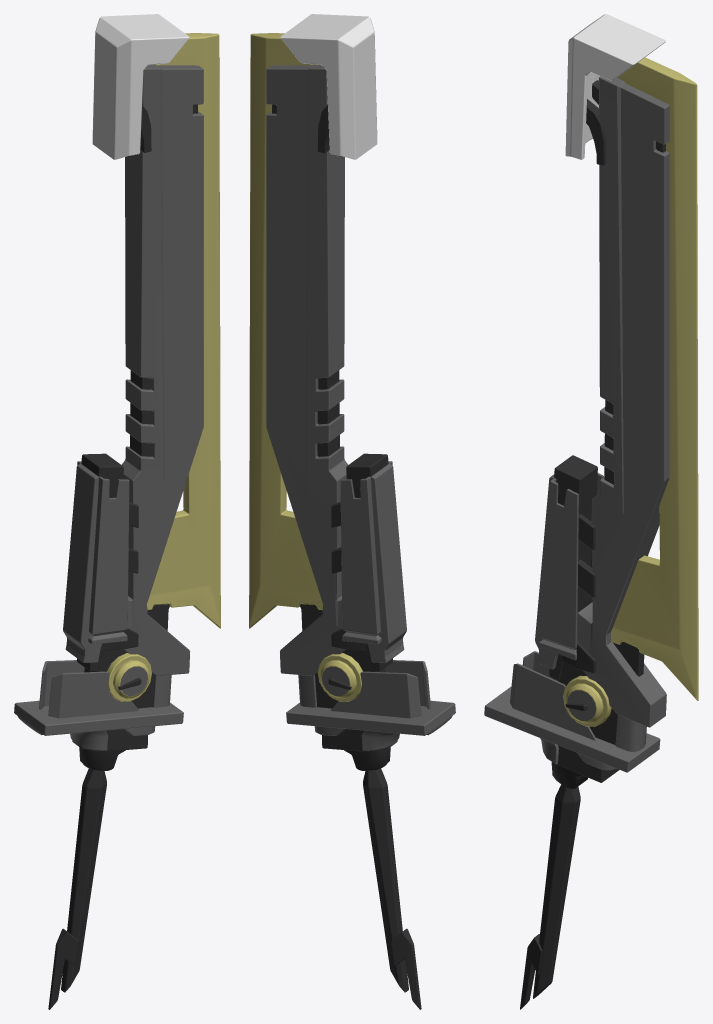
The model's file is sword.fbx.
3 renders of one model, left to right at view 1: azimuth 30°, elevation 25°; view 2: azimuth 150°, elevation 25°; view 3: azimuth 330°, elevation 25°, orthographic. The views are drawn at different scales.
Parts seen in each view (by area): view 1: Plane.054, nbld 2.001; view 2: Plane.054, nbld 2.001; view 3: Plane.054, nbld 2.001.
Boxes of the visible parts, bbox=[...] form: Plane.054: bbox=[14, 33, 220, 1009]; nbld 2.001: bbox=[92, 14, 189, 159]; Plane.054: bbox=[249, 33, 455, 1009]; nbld 2.001: bbox=[280, 14, 377, 159]; Plane.054: bbox=[484, 57, 698, 1009]; nbld 2.001: bbox=[565, 14, 665, 159].
Size of the model in its own units: 71.48 by 344 by 20.93.
